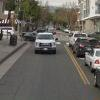Car: (32, 24, 65, 58)
